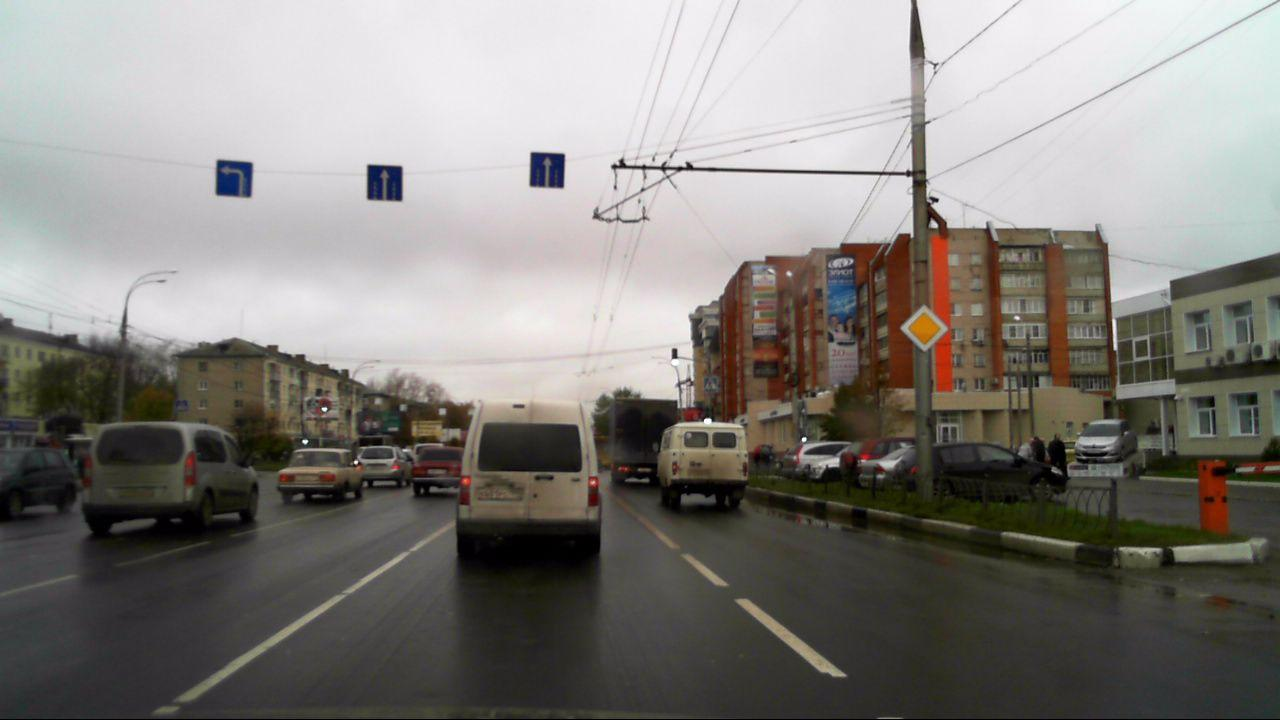2_1: (900, 299, 950, 354)
5_15_2: (366, 160, 407, 203), (215, 160, 252, 198), (530, 151, 566, 186)
